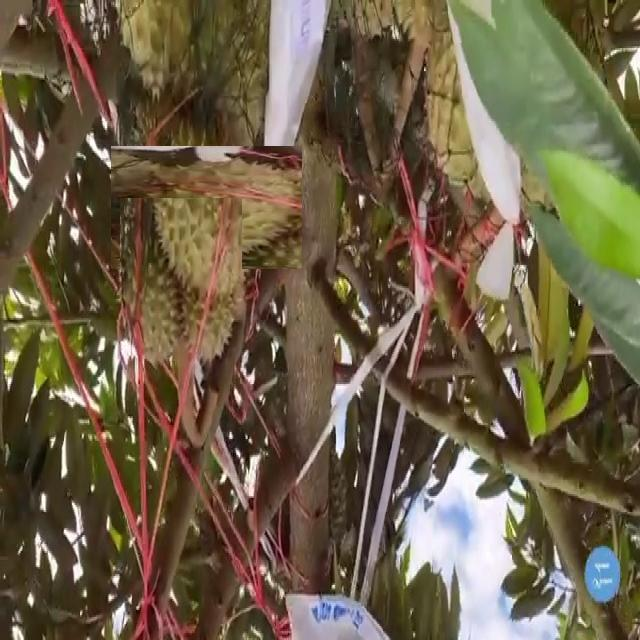durian: (128, 128, 285, 286), (120, 198, 242, 370)
